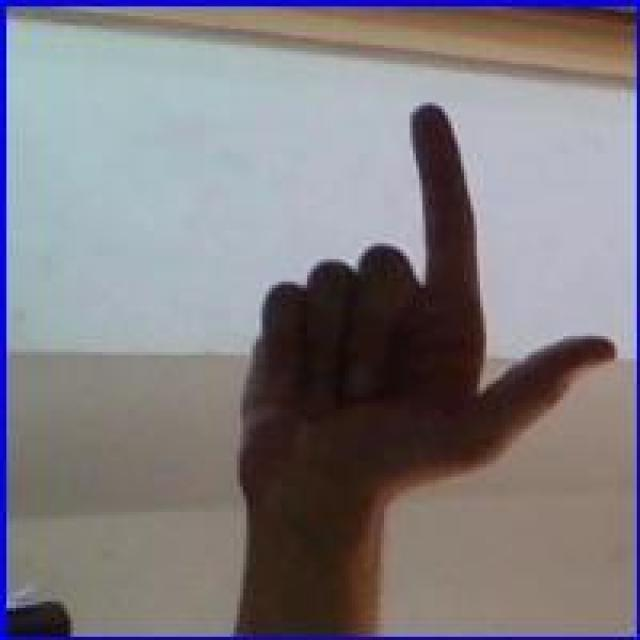L: (232, 96, 626, 544)
